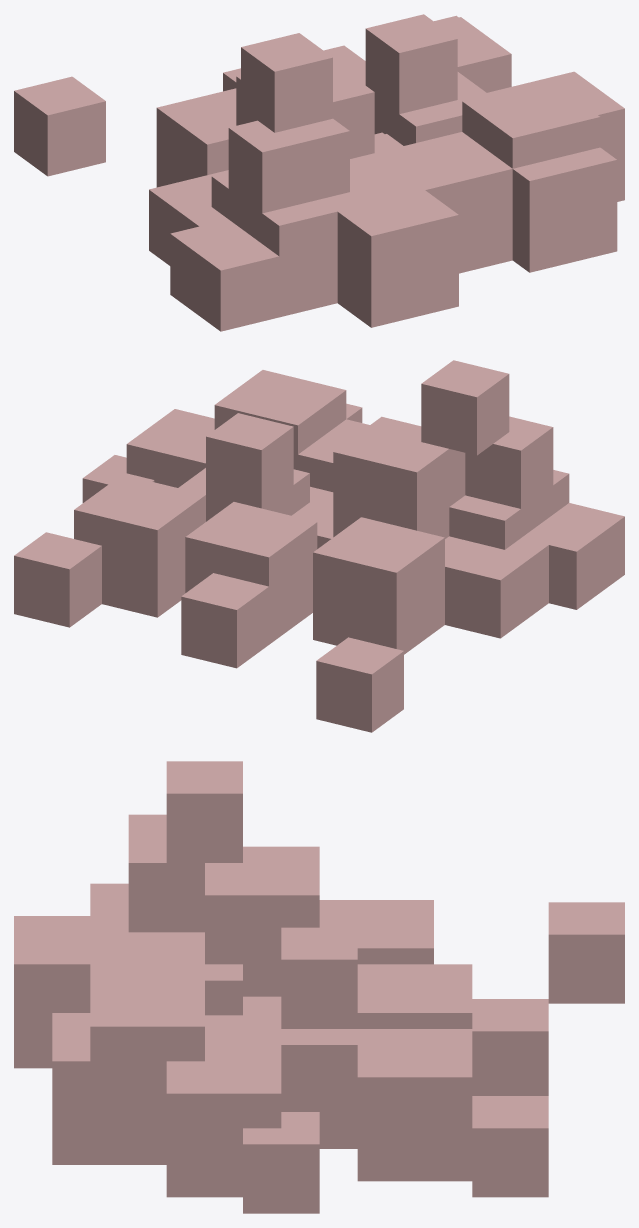
Rendered from rocks0.obj.
The picture shows the model from 3 angles, top to bottom: view 1: azimuth 30°, elevation 25°; view 2: azimuth 150°, elevation 25°; view 3: azimuth 270°, elevation 25°; orthographic projection. The views are drawn at different scales.
Size of the model in its own units: 16 by 7 by 16.
1 material, 1 textured.
